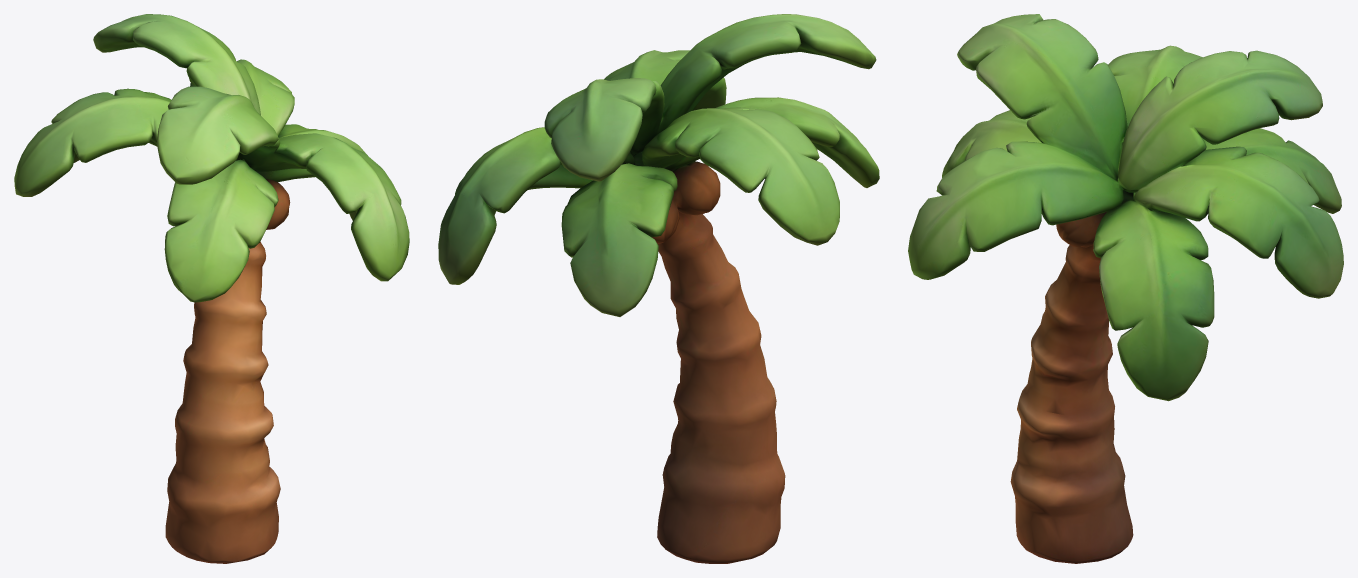
File: palm.glb
3 renders of one model, left to right at view 1: azimuth 30°, elevation 25°; view 2: azimuth 150°, elevation 25°; view 3: azimuth 270°, elevation 25°, orthographic. The views are drawn at different scales.
Parts seen in each view (by area): view 1: tripo_node_2e10e8a2-3fec-4771-bced-0935fc4a648e; view 2: tripo_node_2e10e8a2-3fec-4771-bced-0935fc4a648e; view 3: tripo_node_2e10e8a2-3fec-4771-bced-0935fc4a648e.
Boxes of the visible parts, x1=… form: tripo_node_2e10e8a2-3fec-4771-bced-0935fc4a648e: x1=14, y1=14, x2=409, y2=563; tripo_node_2e10e8a2-3fec-4771-bced-0935fc4a648e: x1=438, y1=14, x2=879, y2=563; tripo_node_2e10e8a2-3fec-4771-bced-0935fc4a648e: x1=908, y1=14, x2=1343, y2=563.
Size of the model in its own units: 0.7767 by 0.9807 by 0.7802.
1 material, 1 textured.
